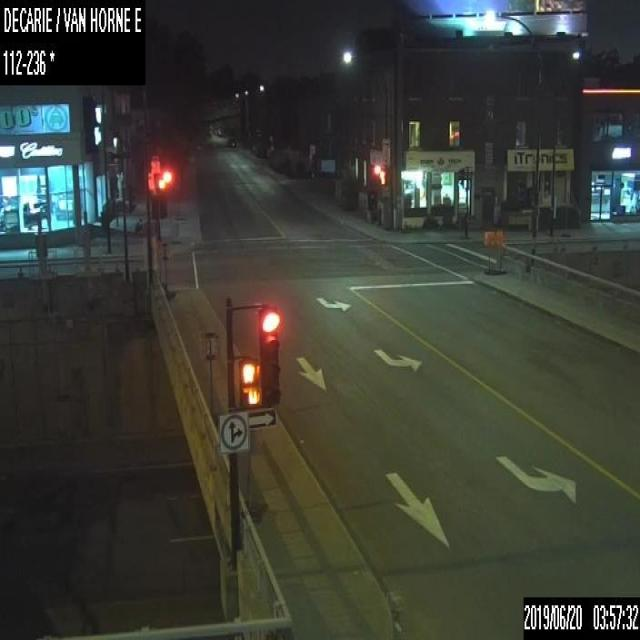construction: (244, 427, 267, 521), (201, 326, 220, 426), (156, 233, 175, 300), (482, 227, 494, 272), (494, 228, 504, 274)
vehicle: (228, 137, 235, 146)
